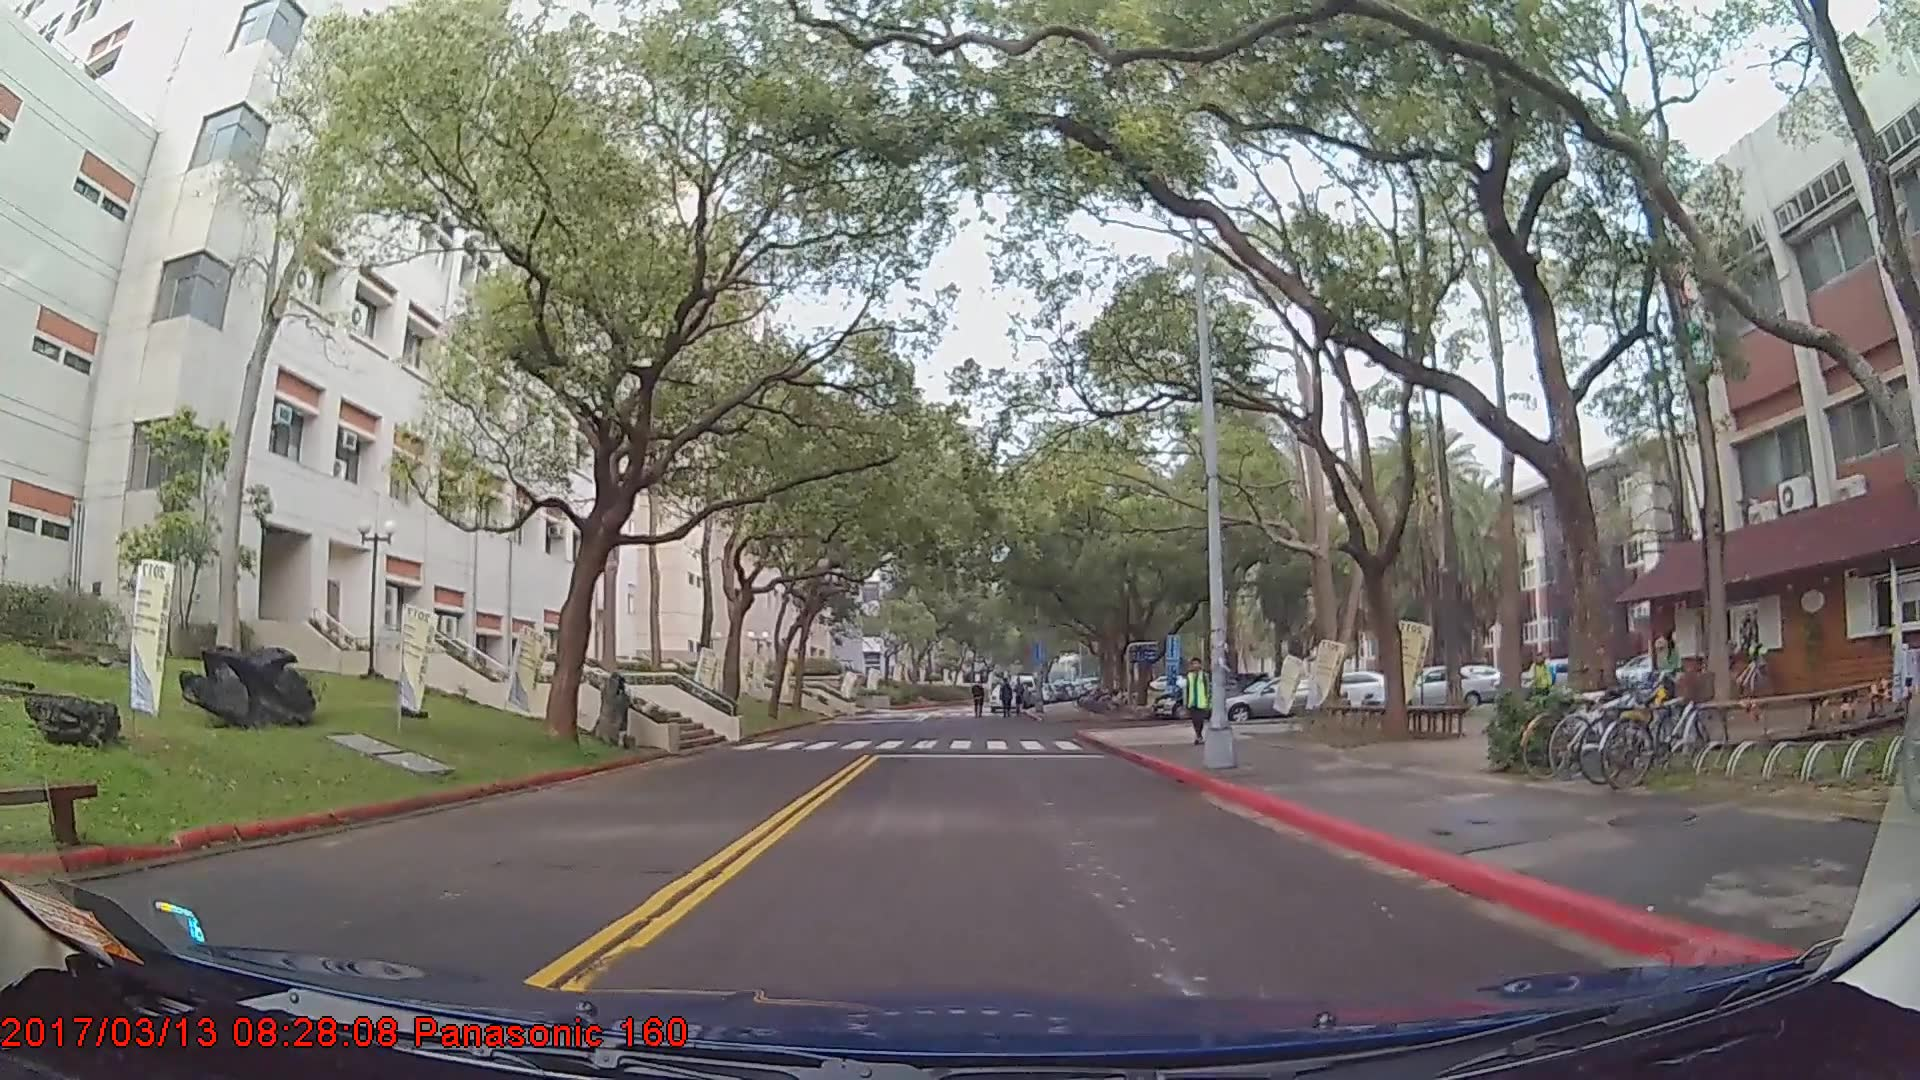pedestrian: (1180, 657, 1214, 748), (1530, 657, 1554, 721), (997, 680, 1017, 721)
vehicle: (1360, 668, 1493, 713), (1212, 679, 1346, 722)
